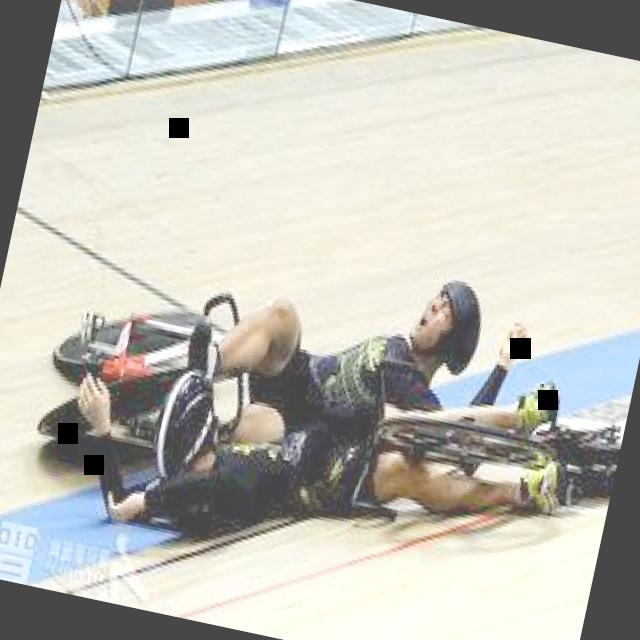Fall-Detected: (23, 296, 584, 622)
